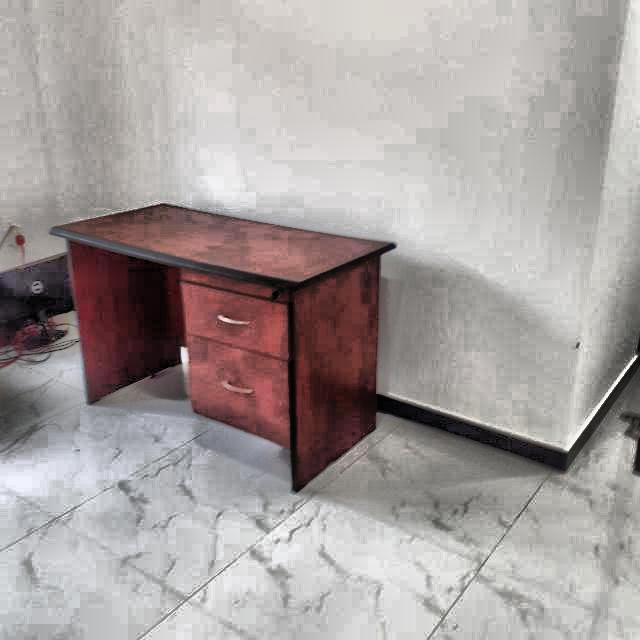mesa: (36, 189, 429, 519)
